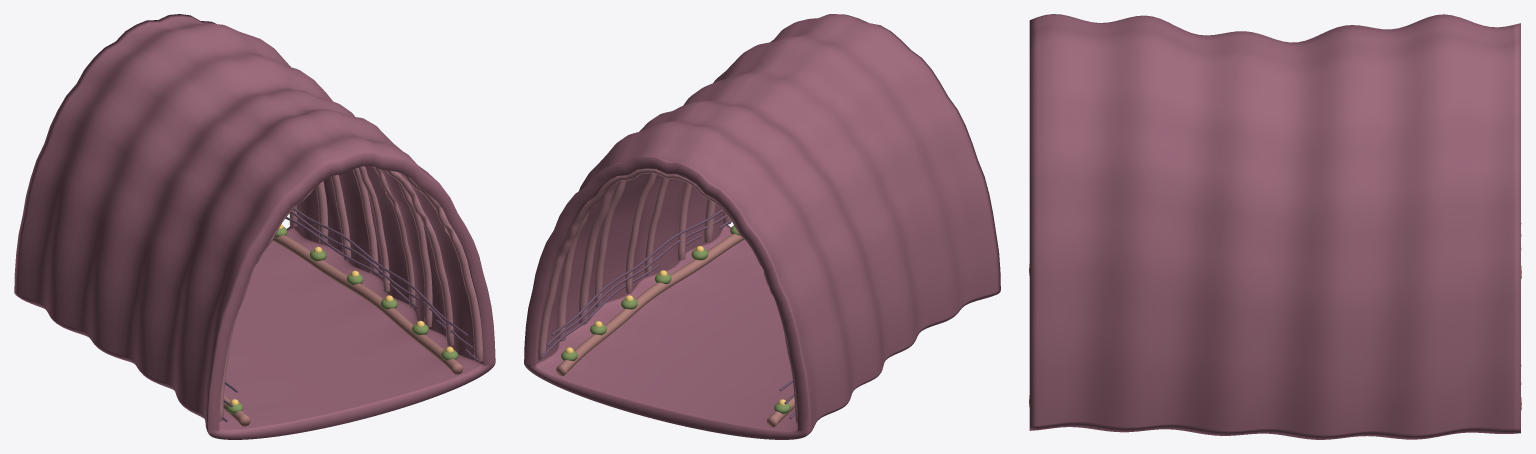
Rendered from rugae_passage_art18.glb.
3 renders of one model, left to right at view 1: azimuth 30°, elevation 25°; view 2: azimuth 150°, elevation 25°; view 3: azimuth 270°, elevation 25°, orthographic. The views are drawn at different scales.
Parts seen in each view (by area): view 1: Static_Inner tissue, Static_Tissue ridge, Static_Tissue floor, Static_Violet vein, Static_Moss mucus; view 2: Static_Inner tissue, Static_Tissue ridge, Static_Tissue floor, Static_Violet vein, Static_Moss mucus; view 3: Static_Inner tissue.
Boxes of the visible parts, box(x1,y1,x2,y2) form: Static_Inner tissue: box(14, 14, 495, 439); Static_Tissue ridge: box(219, 166, 483, 421); Static_Tissue floor: box(223, 235, 463, 426); Static_Violet vein: box(222, 208, 477, 421); Static_Moss mucus: box(226, 226, 458, 413); Static_Inner tissue: box(524, 14, 1000, 439); Static_Tissue ridge: box(538, 168, 797, 423); Static_Tissue floor: box(556, 234, 794, 427); Static_Violet vein: box(541, 209, 794, 418); Static_Moss mucus: box(561, 225, 790, 413); Static_Inner tissue: box(1029, 14, 1520, 439).
Size of the model in its own units: 7.14 by 6.24 by 8.02.
